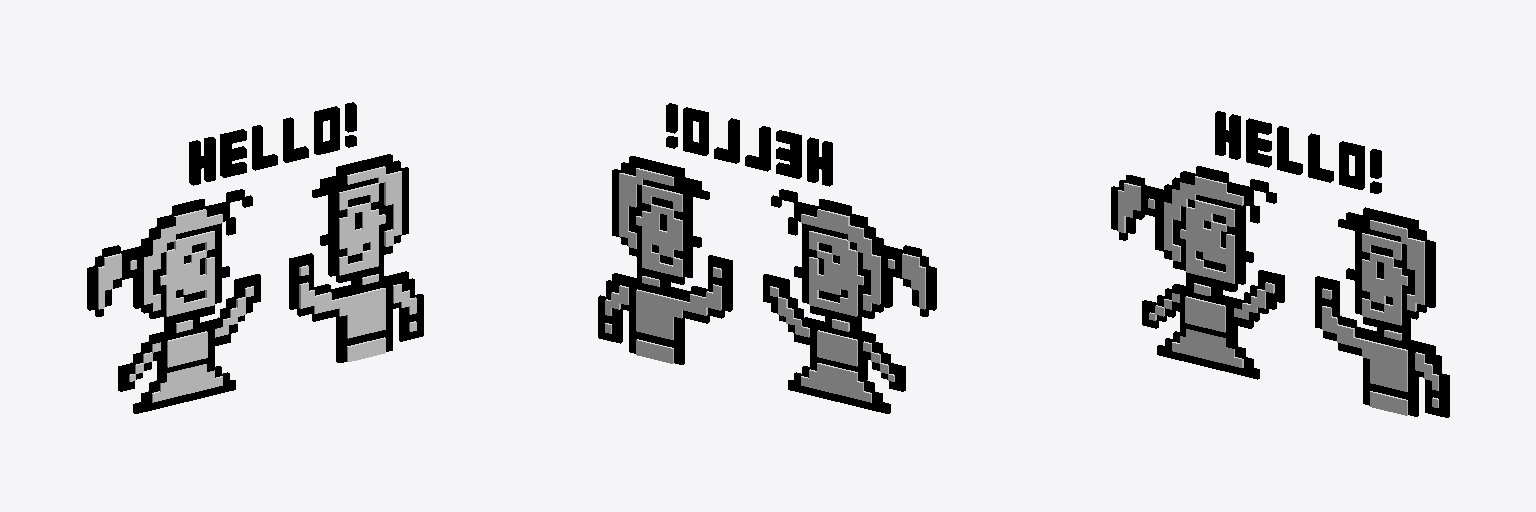
The picture shows the model from 3 angles: view 1: azimuth 30°, elevation 25°; view 2: azimuth 150°, elevation 25°; view 3: azimuth 330°, elevation 25°; orthographic projection.
Visible parts, largest first — view 1: female, male, HELLO; view 2: female, male, HELLO; view 3: female, male, HELLO.
Part boxes in pixels (x1,y1,x2,y2): female: (87, 189, 260, 413); male: (289, 154, 423, 362); HELLO: (189, 102, 356, 185); female: (763, 189, 936, 413); male: (598, 156, 732, 364); HELLO: (666, 103, 832, 186); female: (1111, 166, 1284, 379); male: (1315, 207, 1449, 417); HELLO: (1215, 111, 1381, 193).
Bounding box in the file's own units: 162 × 118 × 6.
Materials: 1 (1 with a texture image).